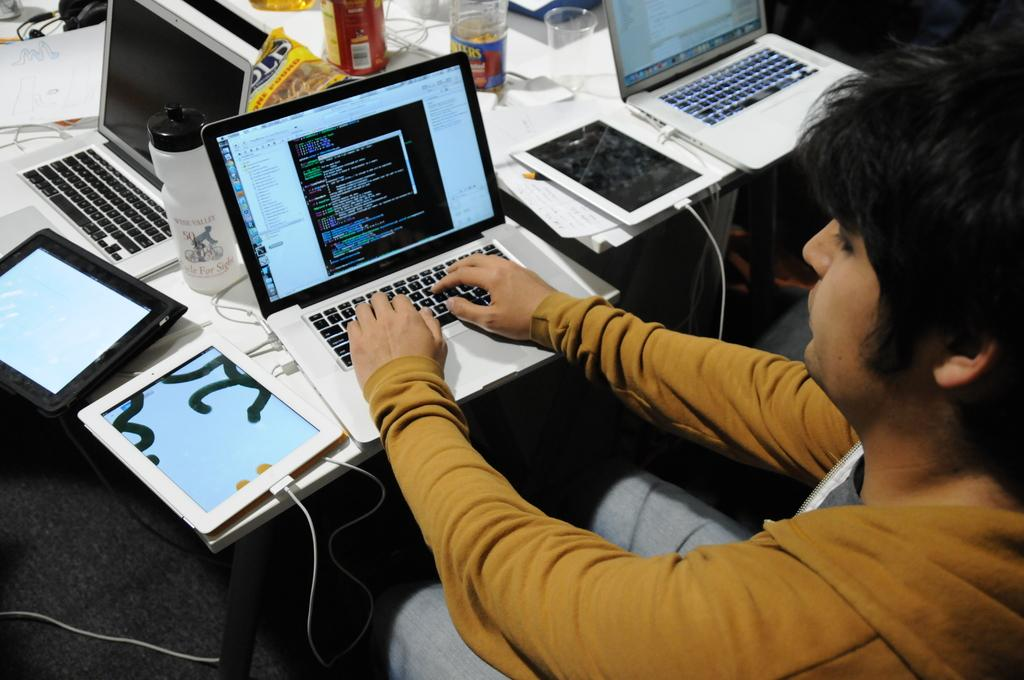Computer-keyboard: (304, 239, 526, 366), (22, 143, 172, 259), (659, 45, 819, 129)
Laptop: (200, 53, 601, 451), (18, 3, 253, 282), (607, 0, 854, 188)
